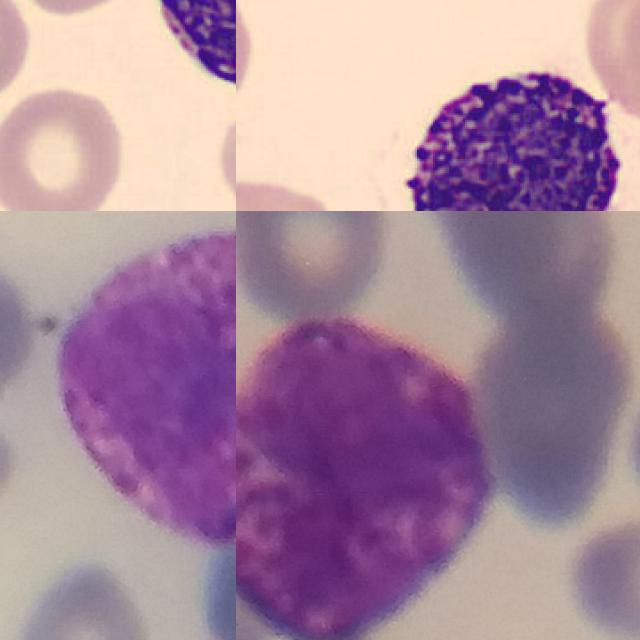Basophil: (236, 318, 497, 640), (51, 229, 236, 541), (385, 46, 634, 211)
Eosinophil: (135, 0, 236, 106)
RBC: (0, 82, 130, 211), (600, 0, 640, 129), (236, 171, 337, 211), (236, 0, 264, 136), (0, 0, 34, 104)
